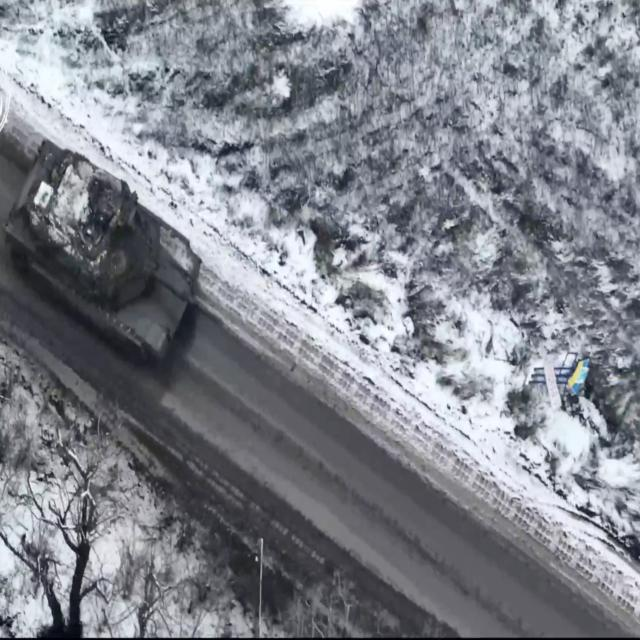vehicle: (5, 136, 204, 368)
